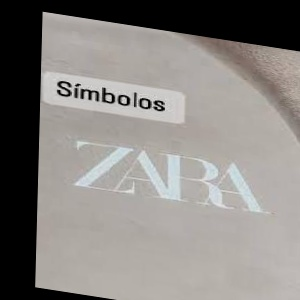zara: (80, 131, 300, 285)
